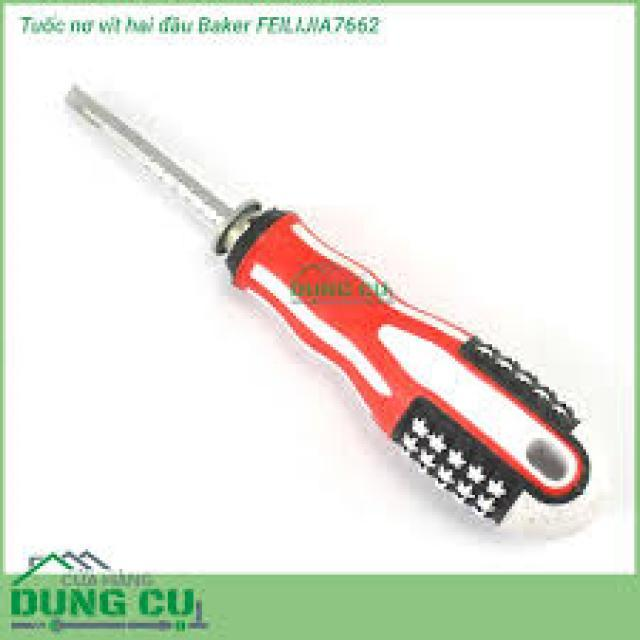screwdriver: (52, 72, 610, 548)
